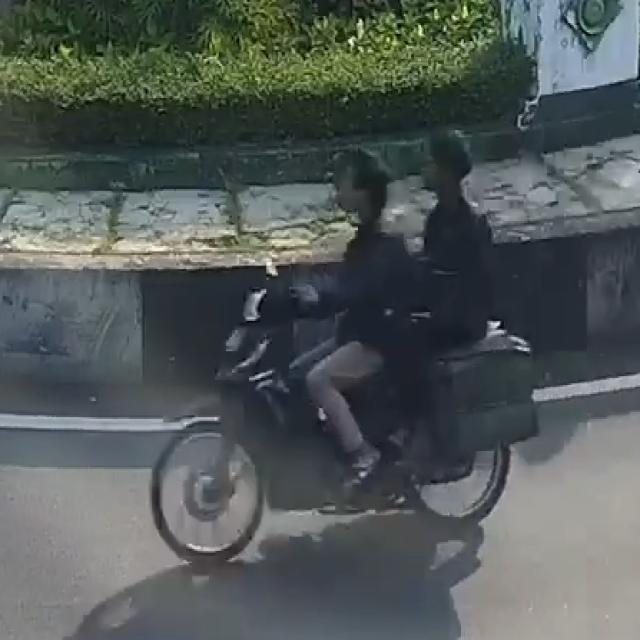motor: (129, 123, 545, 582)
spion: (248, 248, 294, 301)
